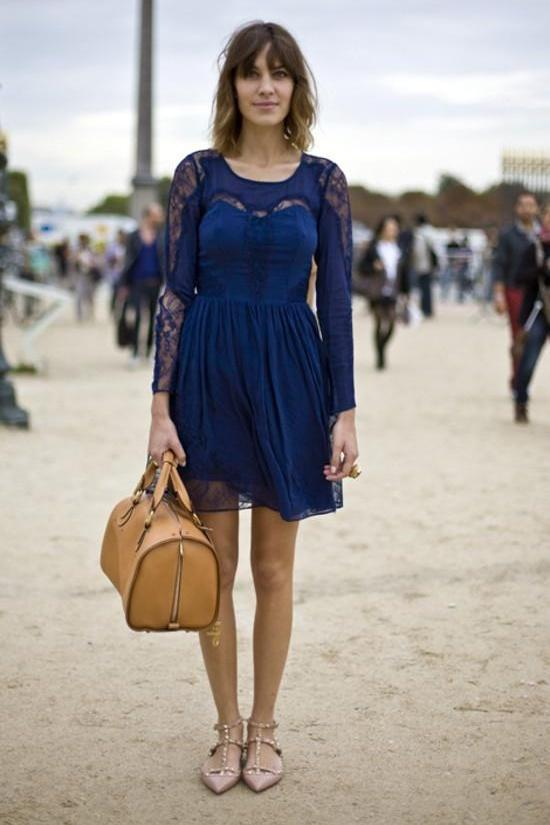dress: (149, 145, 356, 520)
